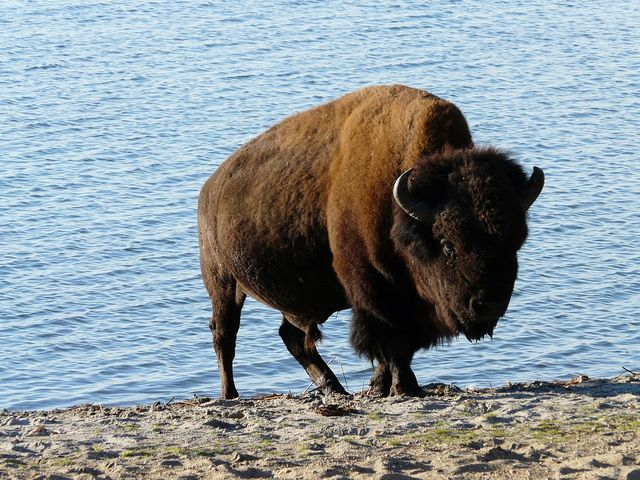zubr: (148, 71, 554, 408)
